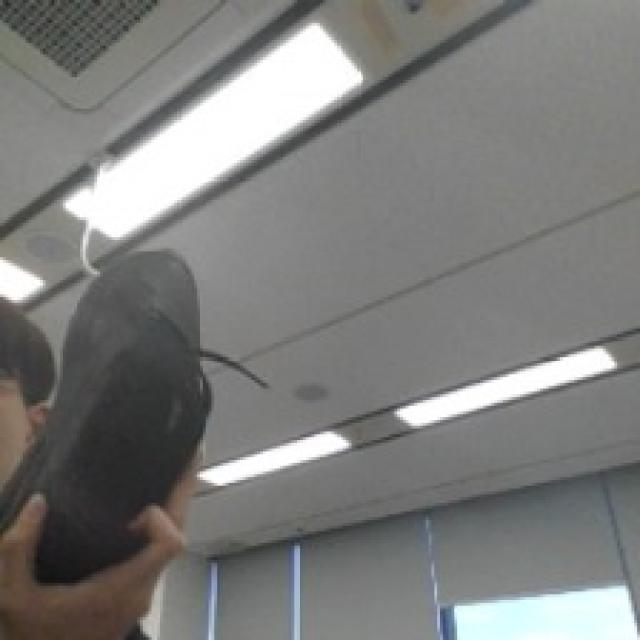shoes: (12, 248, 241, 576)
